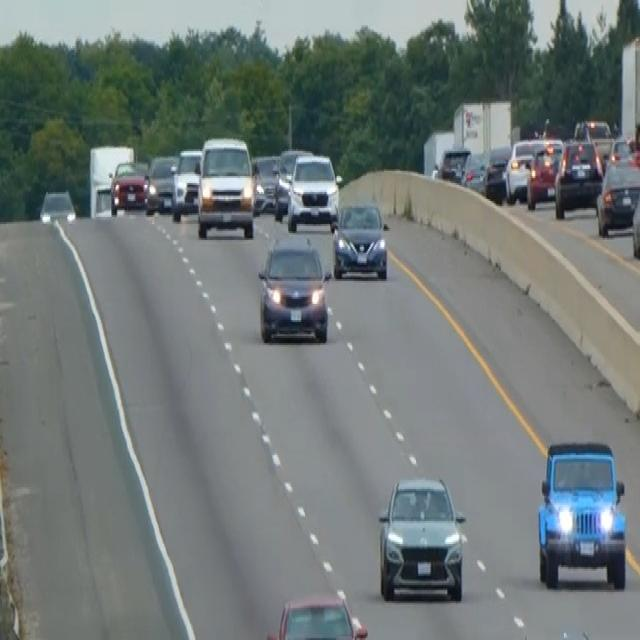car: (376, 473, 467, 603), (256, 237, 330, 343), (264, 588, 368, 638), (331, 199, 389, 279), (286, 151, 341, 231), (554, 135, 603, 219), (595, 153, 639, 236), (272, 146, 312, 218), (504, 135, 545, 203), (525, 137, 563, 210), (170, 146, 202, 220), (108, 156, 146, 214), (573, 116, 614, 167), (144, 153, 177, 213), (483, 142, 511, 203), (251, 153, 279, 213), (38, 188, 76, 226), (438, 144, 470, 183), (461, 149, 487, 192), (631, 178, 639, 261)
jeep: (535, 438, 628, 590)
minivan: (195, 133, 256, 240)
